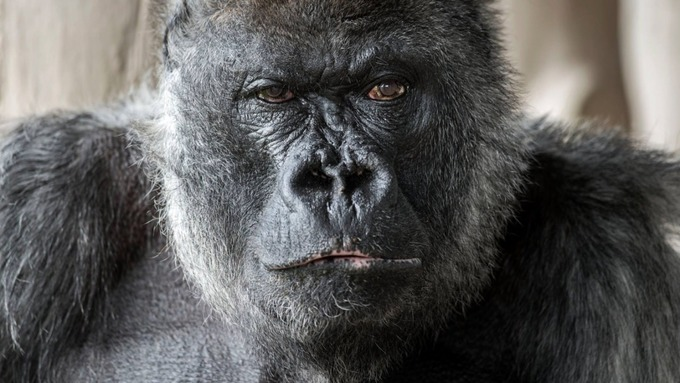Goriila: (56, 3, 660, 383)
